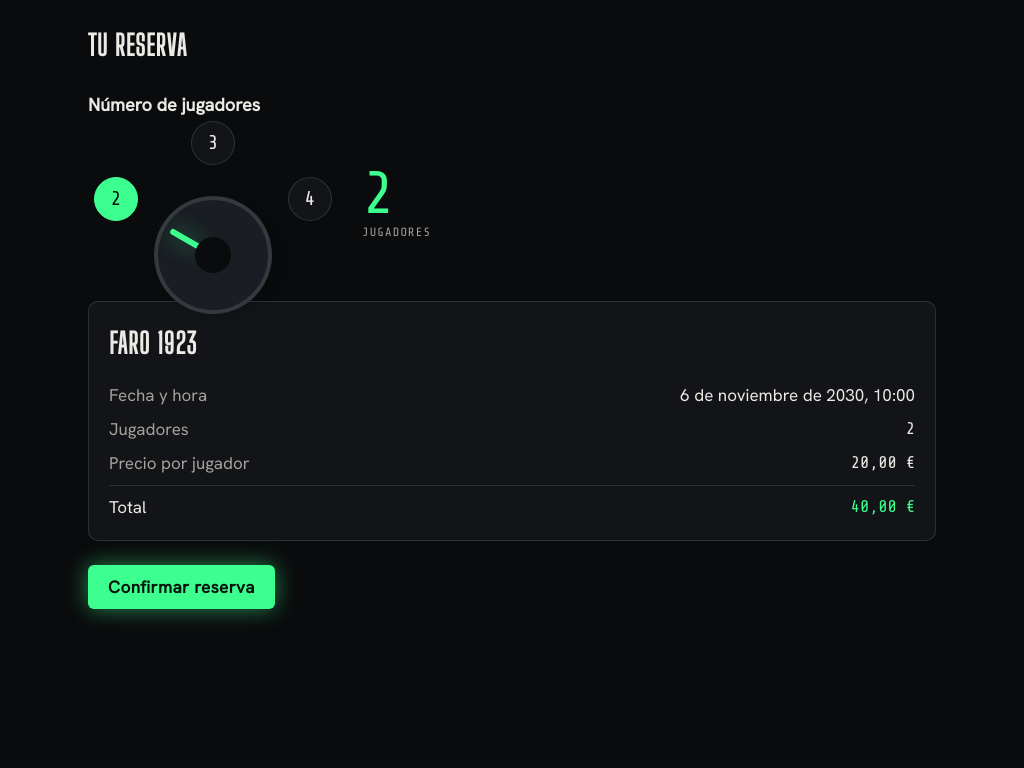
it: CheckoutPage › shows its own message for SLOT_TAKEN
What coordinates should you click on to do the following:
click the button "Confirmar reserva"
I would click on:
 (181, 587)
Its box is top-left (88, 565), bottom-right (275, 609).
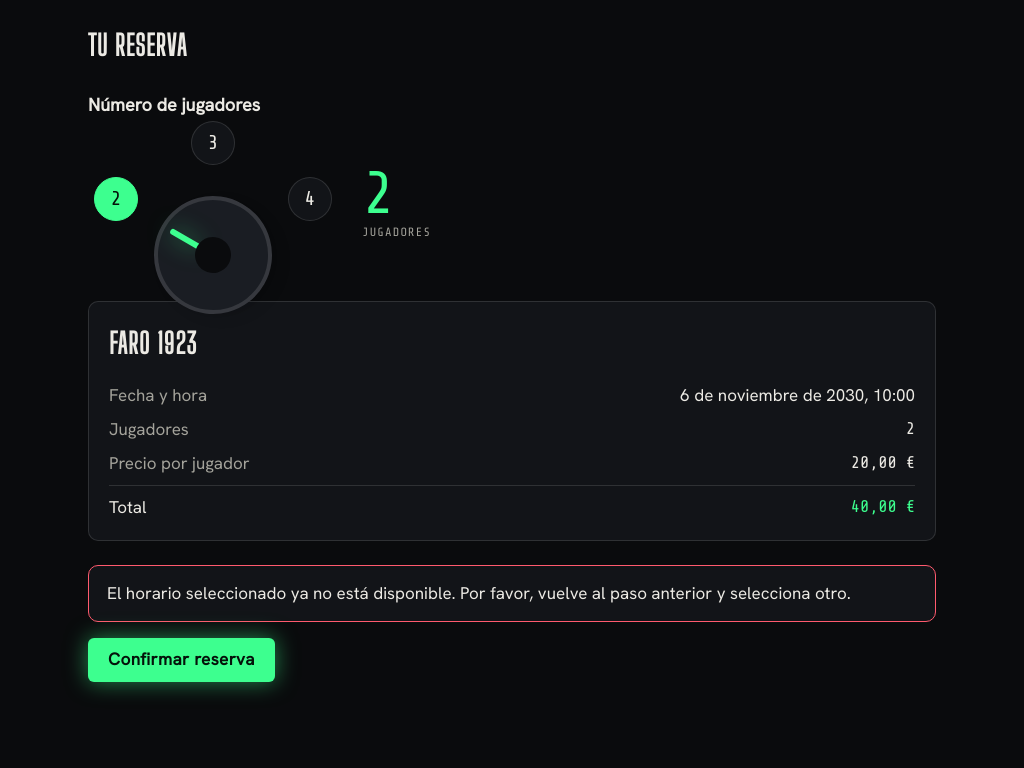
Now the message shows "El horario seleccionado ya no está disponible. Por favor, vuelve al paso anterior y selecciona otro.", box top-left (107, 582), bottom-right (851, 604)
